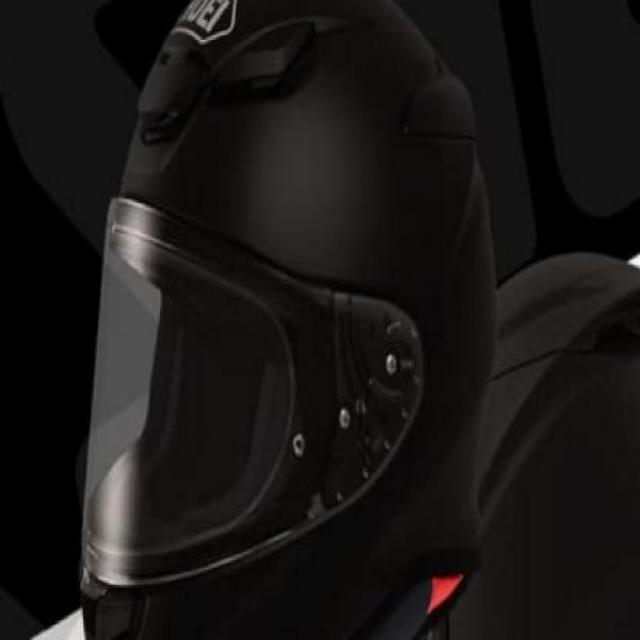Helmet: (86, 3, 438, 558)
